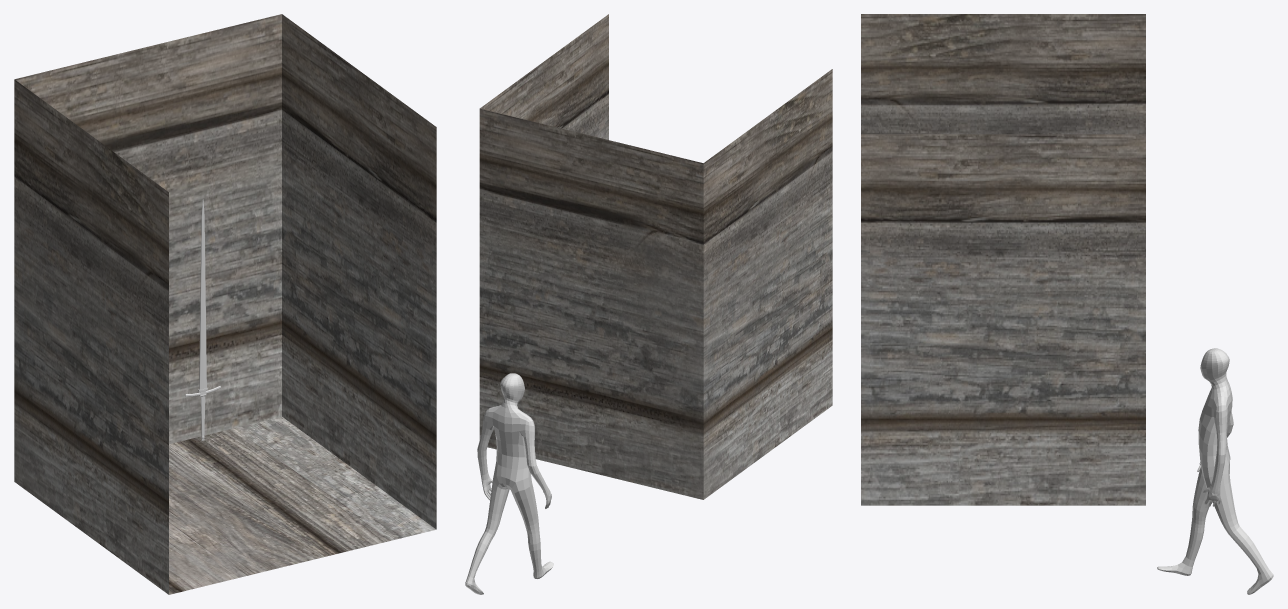
File: Great-Sword.fbx
3 views of the same model, side by side, from view 1: azimuth 30°, elevation 25°; view 2: azimuth 150°, elevation 25°; view 3: azimuth 270°, elevation 25° (orthographic). The views are drawn at different scales.
Parts seen in each view (by area): view 1: Cube.001, greatsword; view 2: Cube.001, Human walking 1.8m; view 3: Cube.001, Human walking 1.8m.
Part boxes in pixels (x1,y1,x2,y2): Cube.001: (14, 14, 436, 594); greatsword: (185, 199, 220, 440); Cube.001: (479, 14, 832, 499); Human walking 1.8m: (465, 373, 553, 594); Cube.001: (861, 14, 1145, 505); Human walking 1.8m: (1157, 348, 1273, 594).
Size of the model in its own units: 200 by 376 by 290.
Materials: 5 (1 with a texture image).
